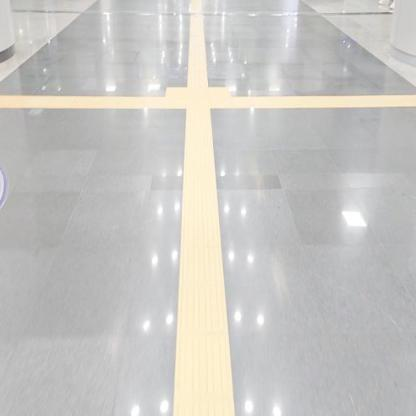podotacti: (172, 109, 236, 415), (148, 64, 245, 130), (232, 94, 415, 108), (0, 94, 165, 108), (187, 0, 210, 87)
